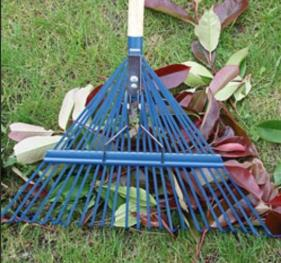RATEAU: (0, 1, 281, 263)
